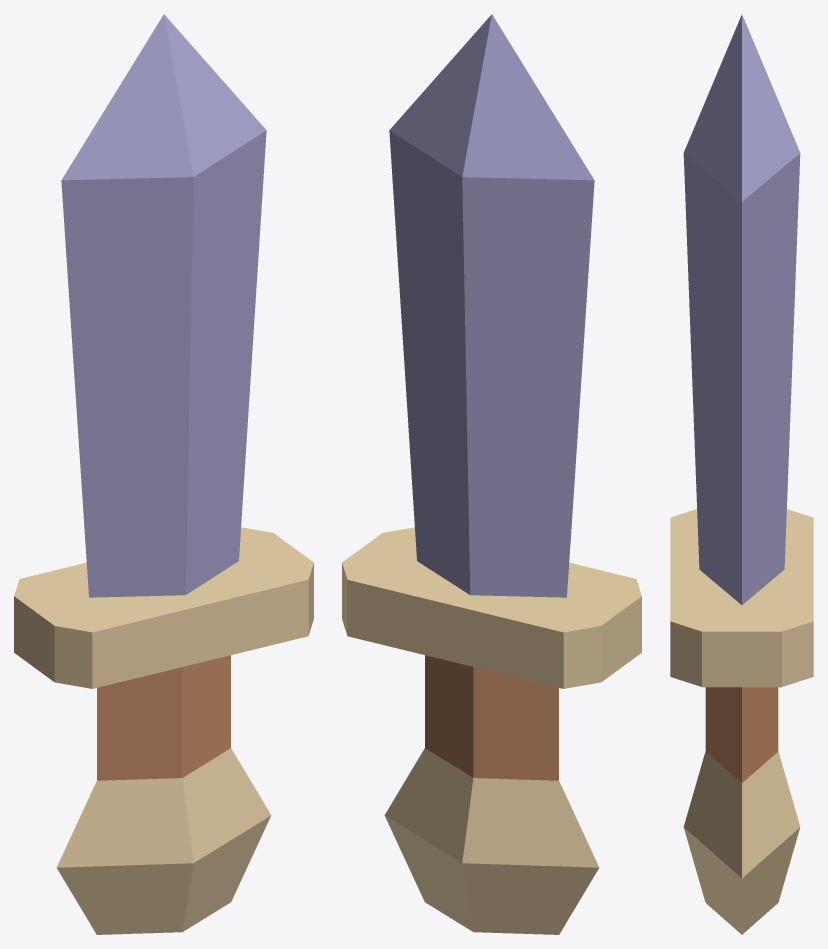
File: Sword.fbx
The picture shows the model from 3 angles, left to right: view 1: azimuth 30°, elevation 25°; view 2: azimuth 150°, elevation 25°; view 3: azimuth 270°, elevation 25°; orthographic projection.
Visible parts, largest first — view 1: mergedBlocks; view 2: mergedBlocks; view 3: mergedBlocks.
Part boxes in pixels (bbox=[...]): mergedBlocks: bbox=[14, 14, 313, 934]; mergedBlocks: bbox=[342, 14, 641, 934]; mergedBlocks: bbox=[670, 14, 813, 934].
Bounding box in the file's own units: 4.8 × 16 × 2.34.
